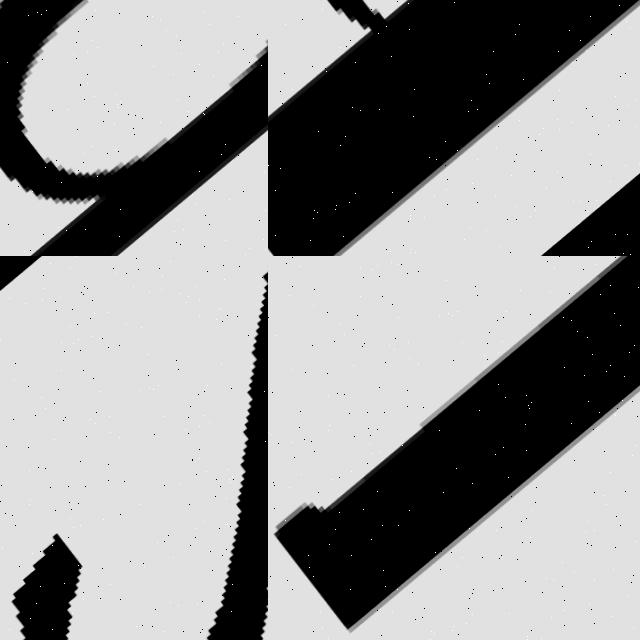2: (0, 256, 268, 640)
D: (268, 0, 640, 256), (0, 0, 268, 256)
L: (268, 256, 640, 640)
